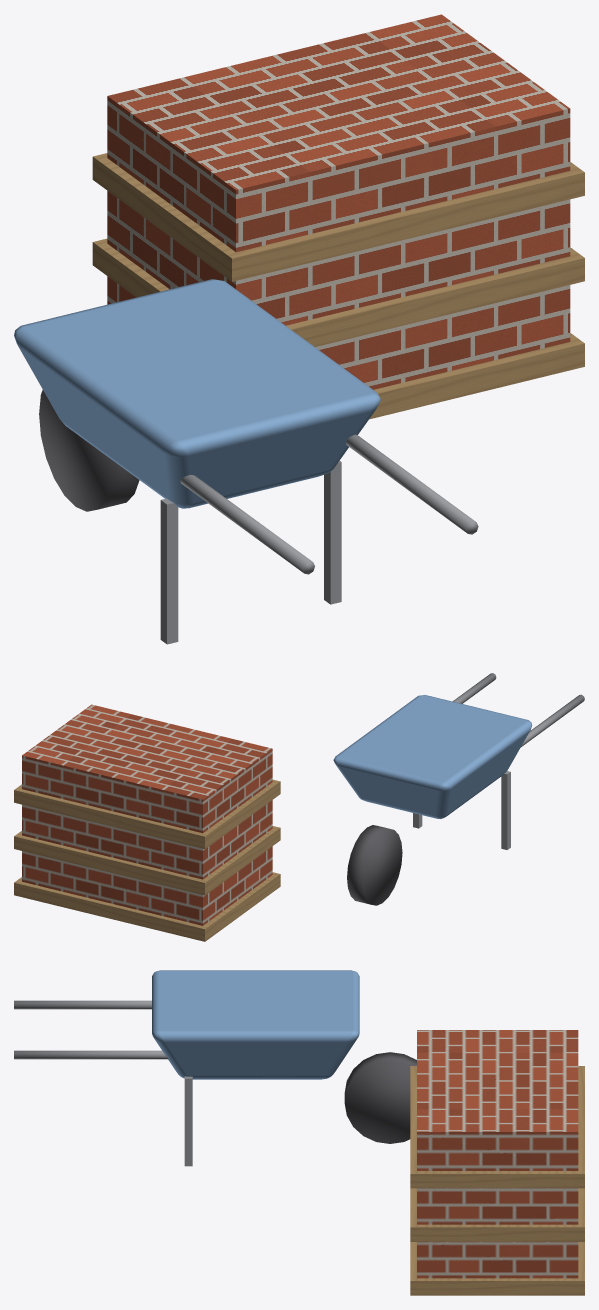
File: obra.ladrillos.fbx
3 views of the same model, one above another, from view 1: azimuth 30°, elevation 25°; view 2: azimuth 150°, elevation 25°; view 3: azimuth 270°, elevation 25° (orthographic). The views are drawn at different scales.
Visible parts, largest first — view 1: Ladrillos.002, Tolva, Ladrillos.001, Pallet.002, Ladrillos, Pallet.001, Pallet, Rueda, Pata.001, Pata, Mango.001, Mango; view 2: Ladrillos.002, Tolva, Ladrillos, Ladrillos.001, Pallet, Pallet.002, Pallet.001, Rueda, Pata.001, Mango.001, Mango; view 3: Ladrillos.002, Tolva, Ladrillos.001, Ladrillos, Rueda, Pallet.002, Pallet, Pallet.001, Mango, Mango.001, Pata.
Boxes of the visible parts, x1,y1,x2,y2 form: Ladrillos.002: (107,14,570,252); Tolva: (14,279,380,508); Ladrillos.001: (107,191,570,325); Pallet.002: (92,153,584,281); Ladrillos: (107,276,570,389); Pallet.001: (92,238,584,346); Pallet: (369,333,584,419); Rueda: (39,390,139,511); Pata.001: (160,498,178,644); Pata: (324,460,341,604); Mango.001: (180,474,314,574); Mango: (346,434,478,534); Ladrillos.002: (22,704,272,833); Tolva: (333,695,532,818); Ladrillos: (22,846,272,925); Ladrillos.001: (22,800,272,879); Pallet: (14,872,280,941); Pallet.002: (14,779,280,849); Pallet.001: (14,826,280,895); Rueda: (347,825,402,905); Pata.001: (501,771,510,849); Mango.001: (520,694,584,747); Mango: (452,673,496,703); Ladrillos.002: (417,1030,578,1170); Tolva: (152,970,359,1079); Ladrillos.001: (417,1188,578,1224); Ladrillos: (417,1242,578,1278); Rueda: (344,1052,416,1143); Pallet.002: (410,1066,584,1188); Pallet: (410,1242,584,1295); Pallet.001: (410,1188,584,1241); Mango: (14,1050,168,1059); Mango.001: (14,1000,151,1009); Pata: (184,1076,192,1166).
Size of the model in its own units: 1.66 by 0.66 by 2.13.
5 materials, 2 textured.
